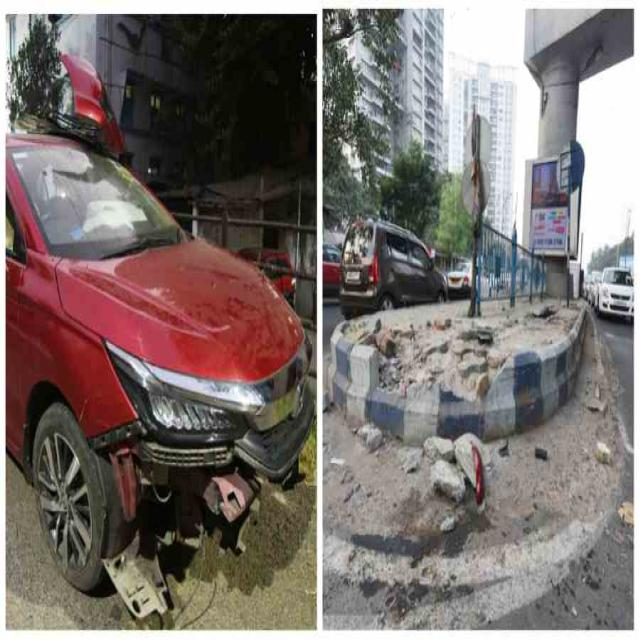missing: (87, 414, 313, 558)
scratch: (78, 395, 90, 427)
